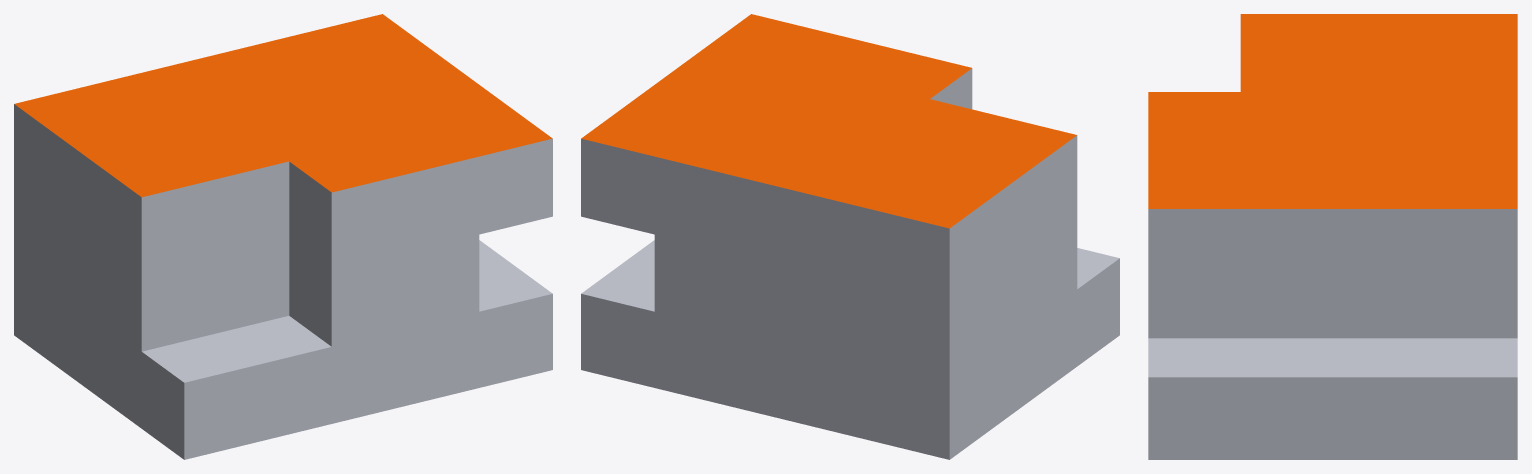
Rendered from behind-side.gltf.
3 views of the same model, side by side, from view 1: azimuth 30°, elevation 25°; view 2: azimuth 150°, elevation 25°; view 3: azimuth 270°, elevation 25° (orthographic). The views are drawn at different scales.
Visible parts, largest first — view 1: 3DGeom-15, 3DGeom-14; view 2: 3DGeom-15, 3DGeom-14; view 3: 3DGeom-15, 3DGeom-14.
Part boxes in pixels (x1=…): 3DGeom-15: x1=14, y1=104, x2=552, y2=459; 3DGeom-14: x1=14, y1=14, x2=552, y2=197; 3DGeom-15: x1=581, y1=68, x2=1119, y2=459; 3DGeom-14: x1=581, y1=14, x2=1076, y2=228; 3DGeom-15: x1=1148, y1=209, x2=1517, y2=459; 3DGeom-14: x1=1148, y1=14, x2=1517, y2=208.
Bounding box in the file's own units: 0.5 × 0.3 × 0.4.
